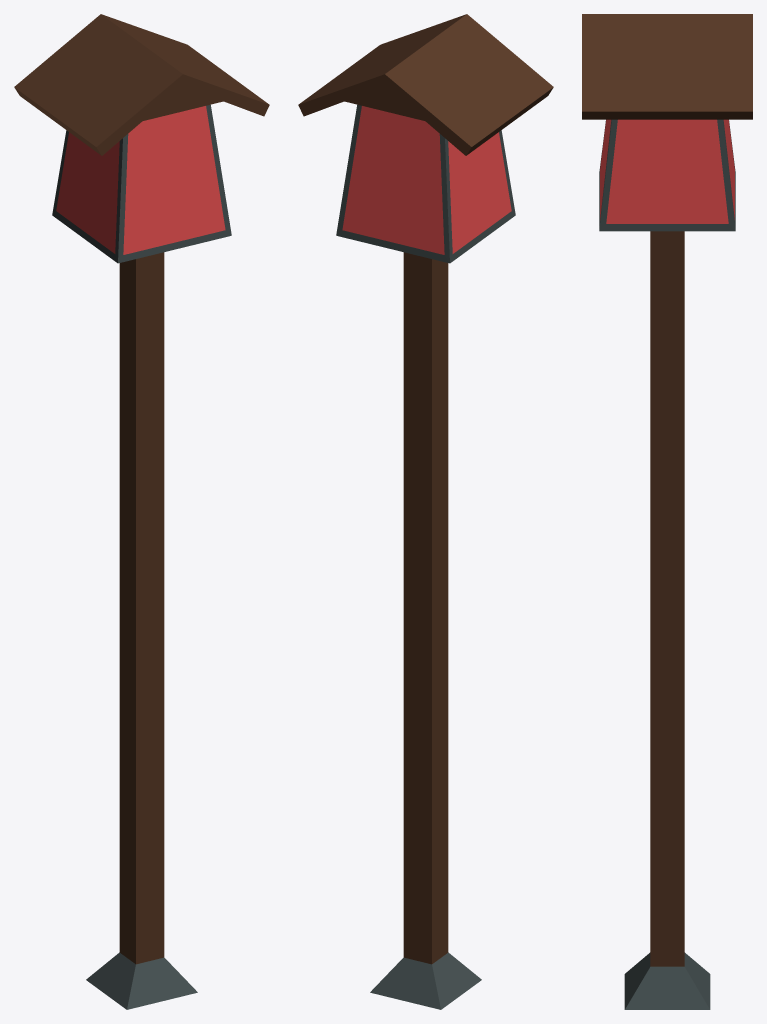
The model's file is Lamp_3_Red.fbx.
3 renders of one model, left to right at view 1: azimuth 30°, elevation 25°; view 2: azimuth 150°, elevation 25°; view 3: azimuth 270°, elevation 25°, orthographic. The views are drawn at different scales.
Parts seen in each view (by area): view 1: Lamp_3_Red; view 2: Lamp_3_Red; view 3: Lamp_3_Red.
Part boxes in pixels (x1,y1,x2,y2): Lamp_3_Red: (14, 14, 269, 1009); Lamp_3_Red: (298, 14, 553, 1009); Lamp_3_Red: (582, 14, 752, 1009).
Size of the model in its own units: 60.93 by 316 by 50.
